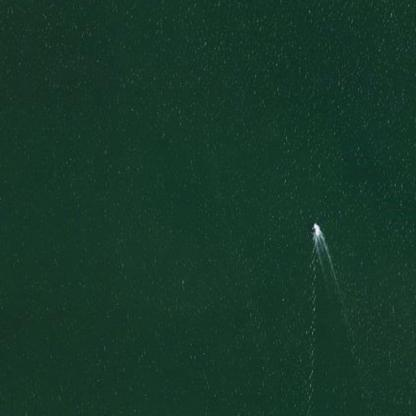ship: (308, 218, 326, 238)
